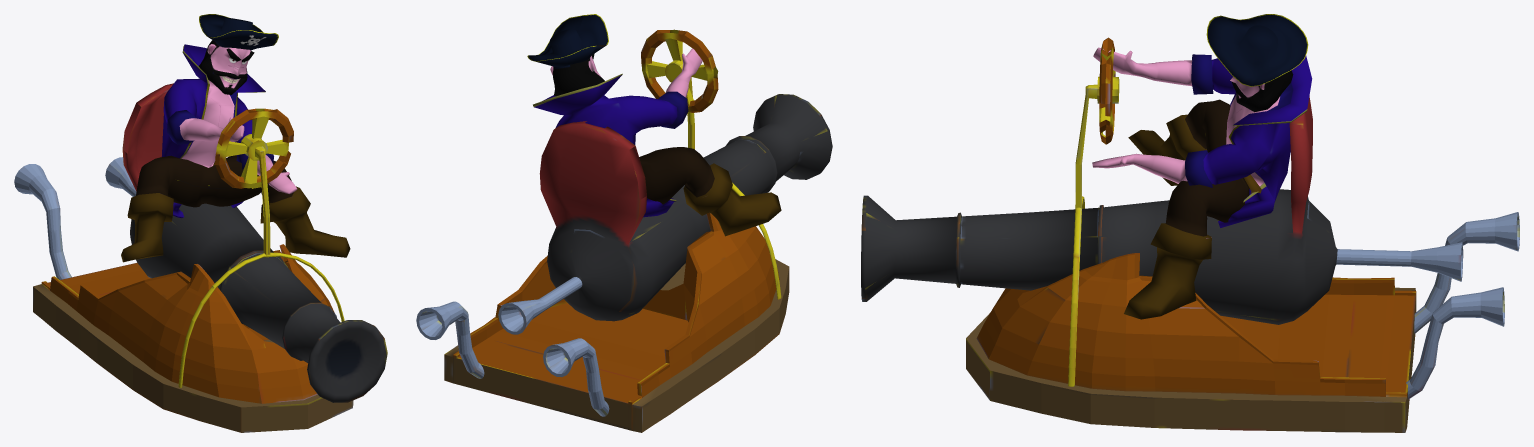
File: pirataGiroDER_000478.obj
3 renders of one model, left to right at view 1: azimuth 30°, elevation 25°; view 2: azimuth 150°, elevation 25°; view 3: azimuth 270°, elevation 25°, orthographic. The views are drawn at different scales.
Visible parts, largest first — view 1: carro_pirata, Pirata_PirataH; view 2: carro_pirata, Pirata_PirataH; view 3: carro_pirata, Pirata_PirataH.
Part boxes in pixels (box(x1,y1,x2,y2)): carro_pirata: box(14, 83, 387, 432); Pirata_PirataH: box(121, 14, 350, 262); carro_pirata: box(416, 29, 832, 432); Pirata_PirataH: box(527, 14, 781, 236); carro_pirata: box(861, 37, 1519, 432); Pirata_PirataH: box(1092, 14, 1312, 319).
Size of the model in its own units: 5.68 by 7.57 by 12.1.
